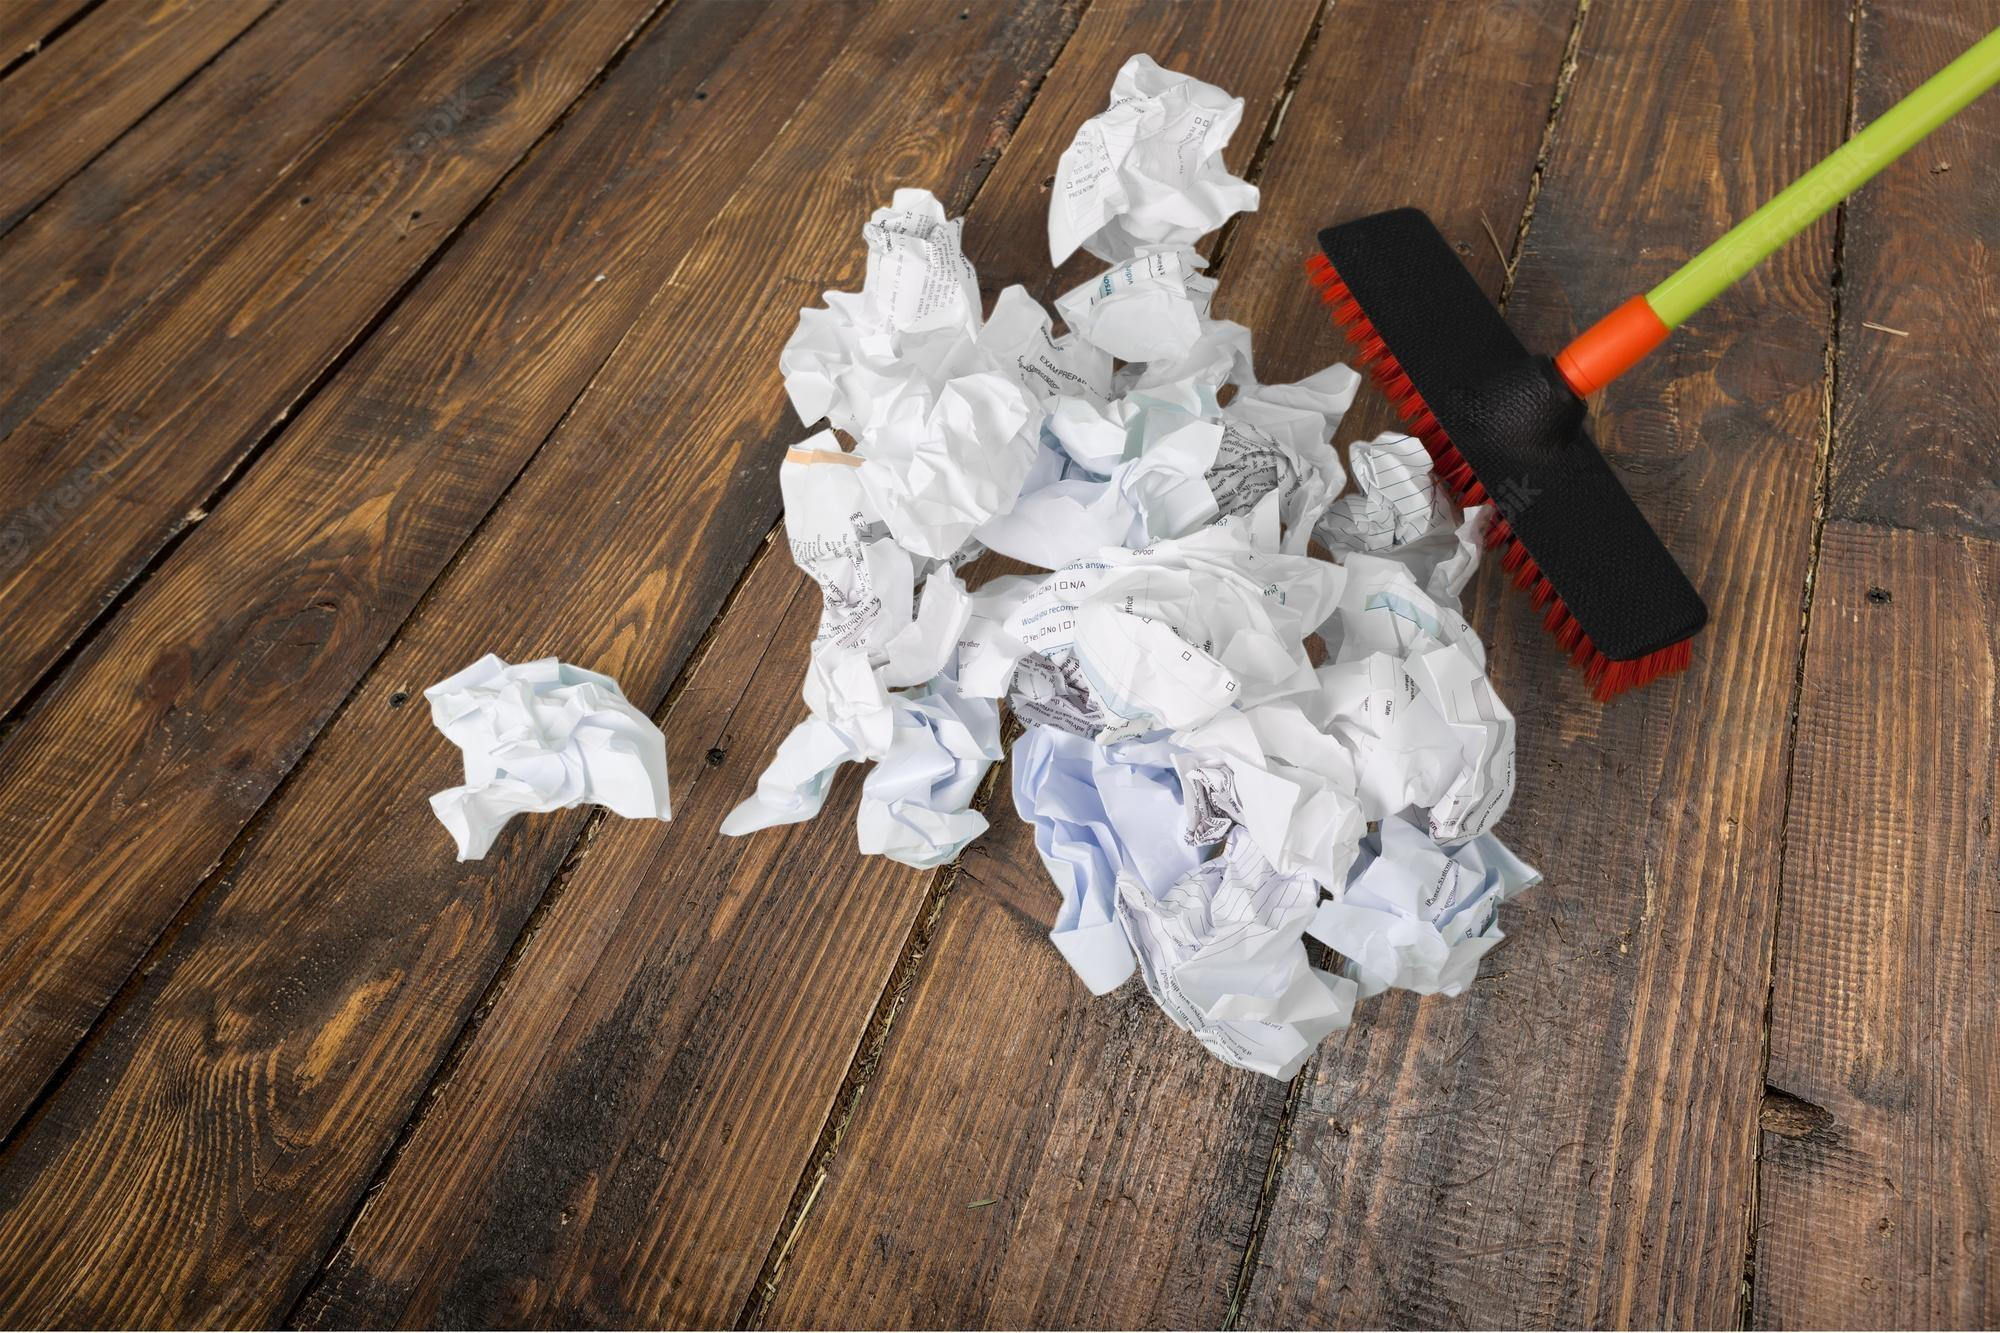Paper: (741, 56, 1540, 1082), (734, 644, 1003, 887), (777, 190, 1006, 433), (414, 658, 674, 863), (1037, 54, 1275, 266), (1288, 786, 1541, 953)
